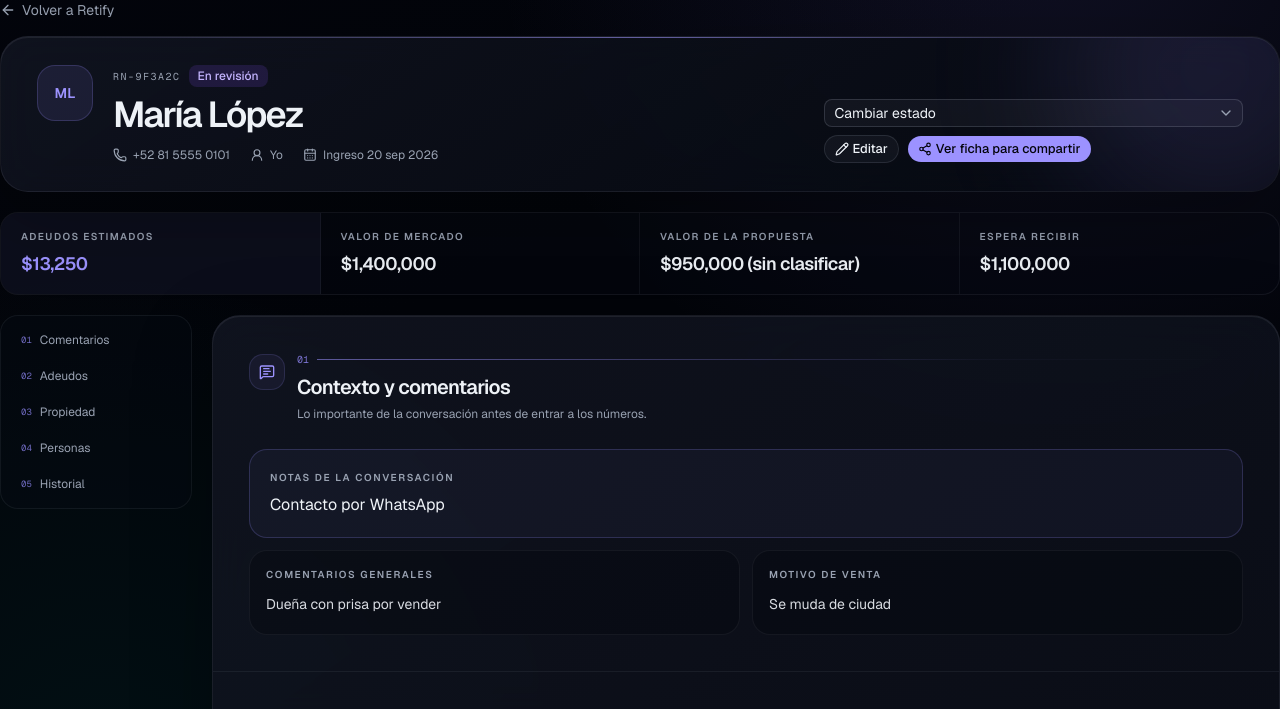
Test case: RenovaCaseDetail — actions › Editar opens the SAME popup in edit mode with the real case, and saving refreshes the page data
Expected: the heading "María López" is shown, [113,91,303,138]
Click the button "Editar" at x=861, y=149, box [824,135,899,163]
(page scrolled)
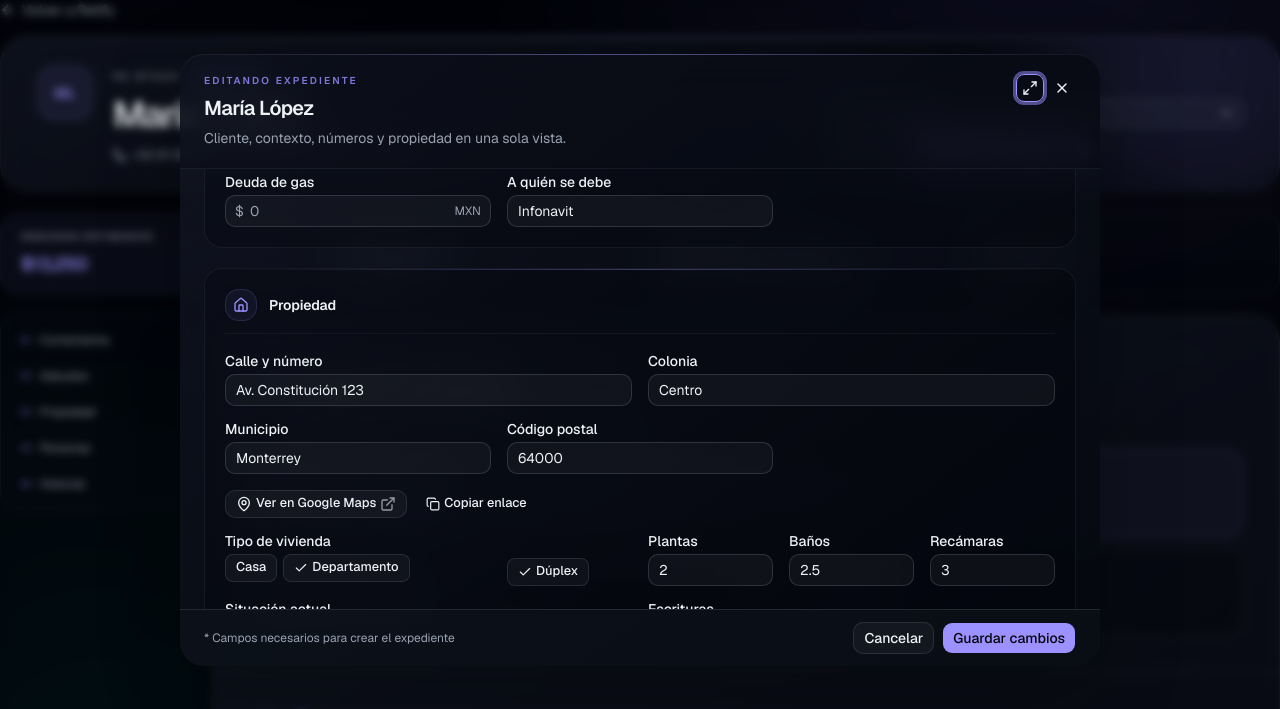
Expected: the text "Editando expediente" is shown, [204,74,358,87]
Expected: the heading "María López" is shown, [204,95,314,121]
Expected: the field labelled "Colonia" holds "Centro"
Replace the text in the field labelled "Colonia" with "Obispado" at x=852, y=390, box [648,374,1055,406]
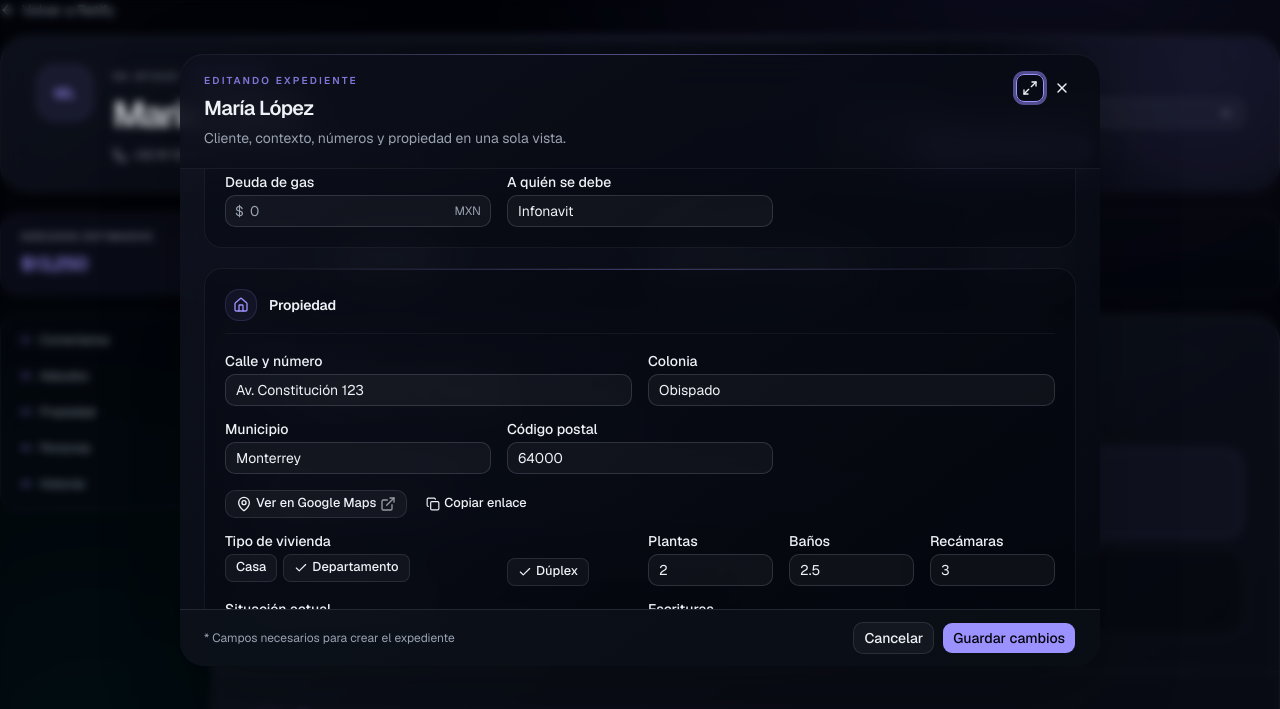
Click the button "Guardar cambios" at x=1009, y=638, box [942,622,1076,654]
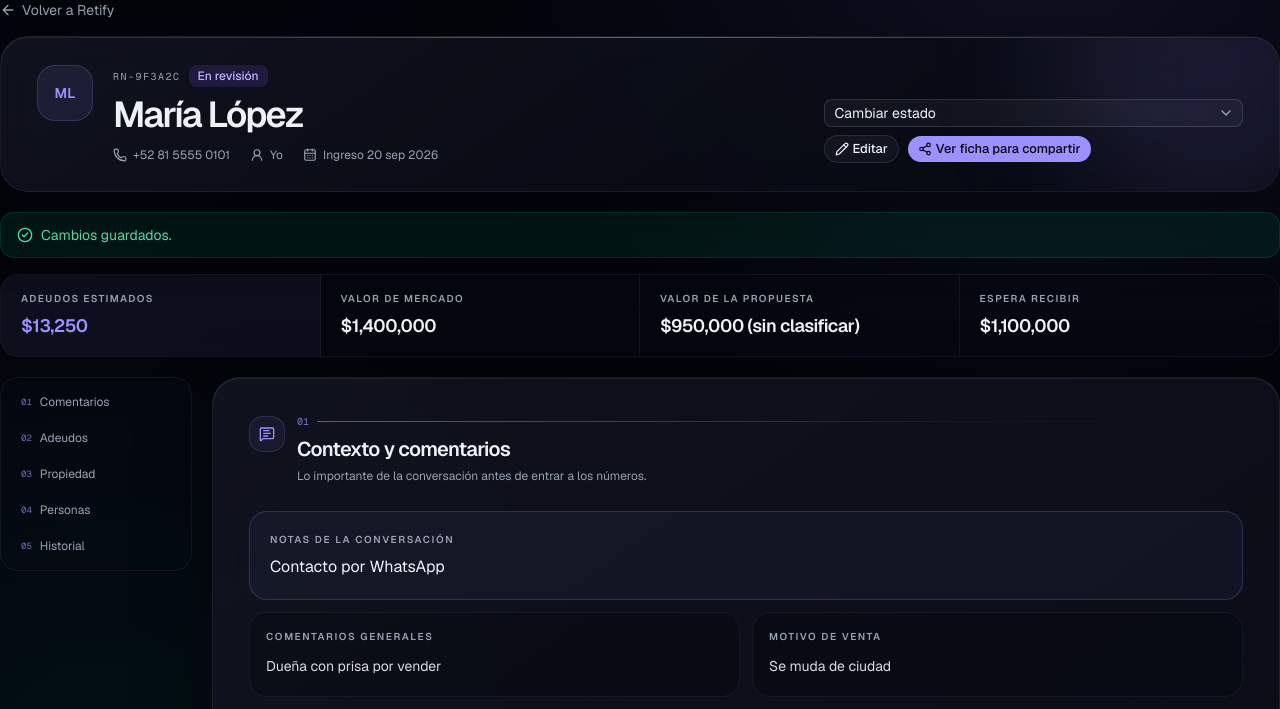
Expected: the dialog is gone
Expected: the text "Cambios guardados." is shown, [0,212,1279,258]
